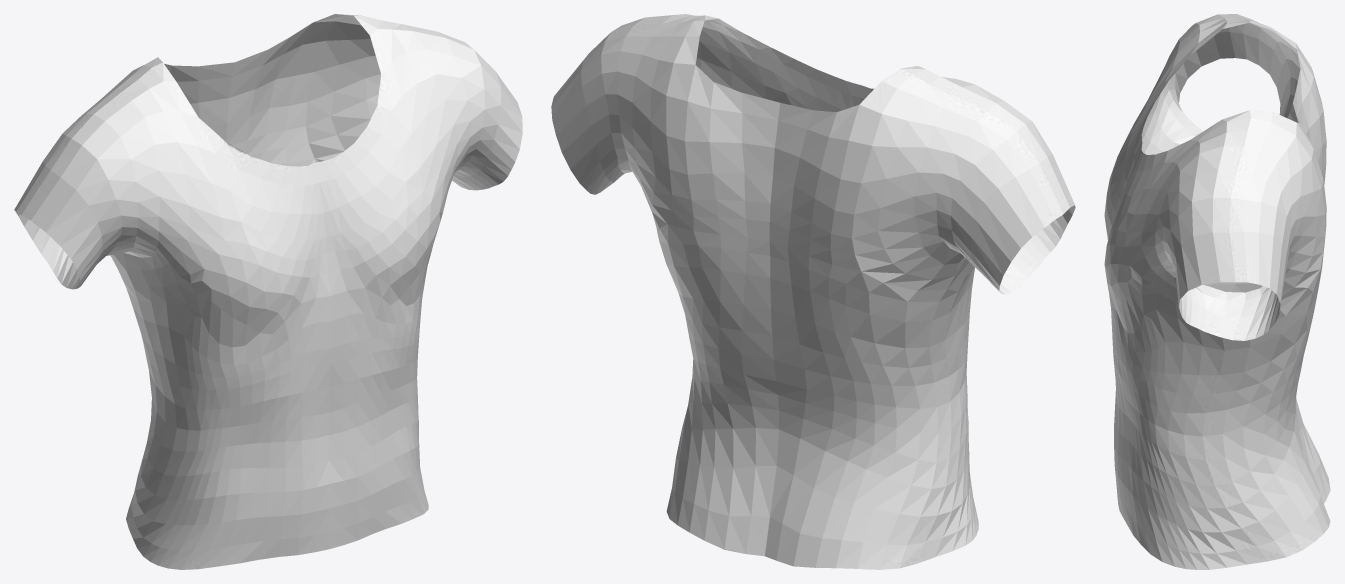
The model's file is mhw_elvs_crude_t-shirt_male.glb.
The picture shows the model from 3 angles, left to right: view 1: azimuth 30°, elevation 25°; view 2: azimuth 150°, elevation 25°; view 3: azimuth 270°, elevation 25°; orthographic projection. The views are drawn at different scales.
Parts seen in each view (by area): view 1: mhw_elvs_crude_t-shirt_male; view 2: mhw_elvs_crude_t-shirt_male; view 3: mhw_elvs_crude_t-shirt_male.
Part boxes in pixels (left/top/right/bottom): mhw_elvs_crude_t-shirt_male: left=14, top=14, right=522, bottom=569; mhw_elvs_crude_t-shirt_male: left=551, top=14, right=1075, bottom=569; mhw_elvs_crude_t-shirt_male: left=1104, top=14, right=1330, bottom=569.
Size of the model in its own units: 0.603 by 0.5516 by 0.2561.
1 material, 1 textured.
